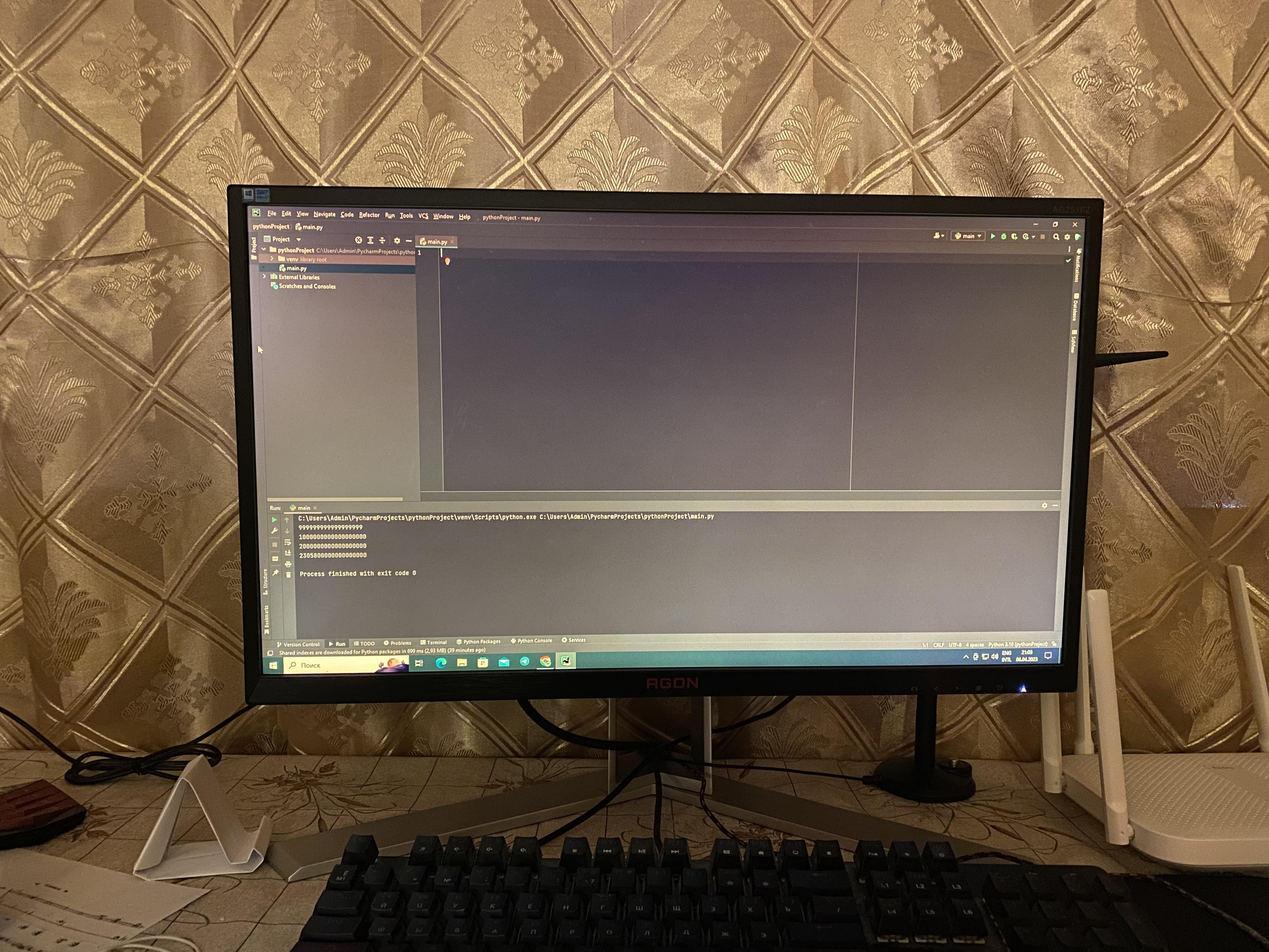monitor: (219, 175, 1109, 697)
